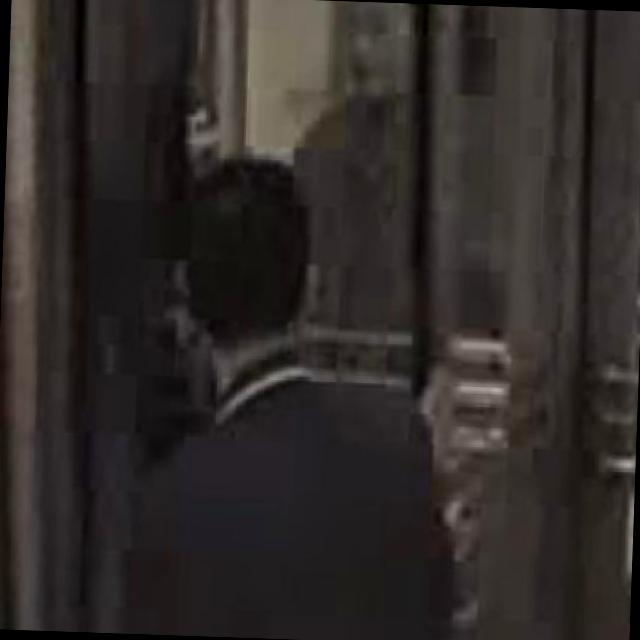Person: (119, 135, 473, 638)
